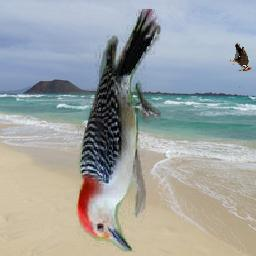Woodpecker: (77, 10, 162, 253), (230, 43, 253, 72)
